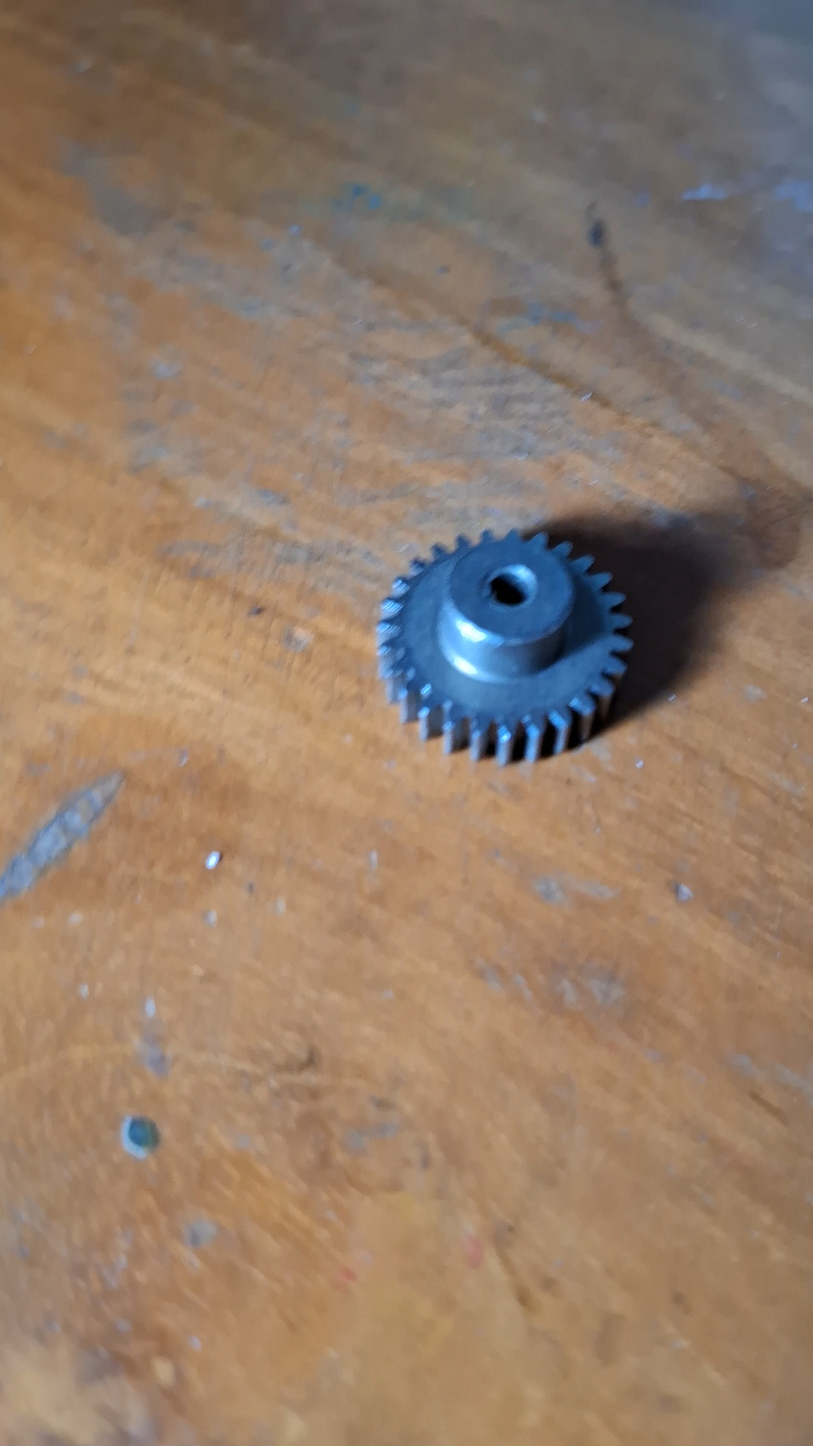spur gear: (378, 531, 632, 763)
